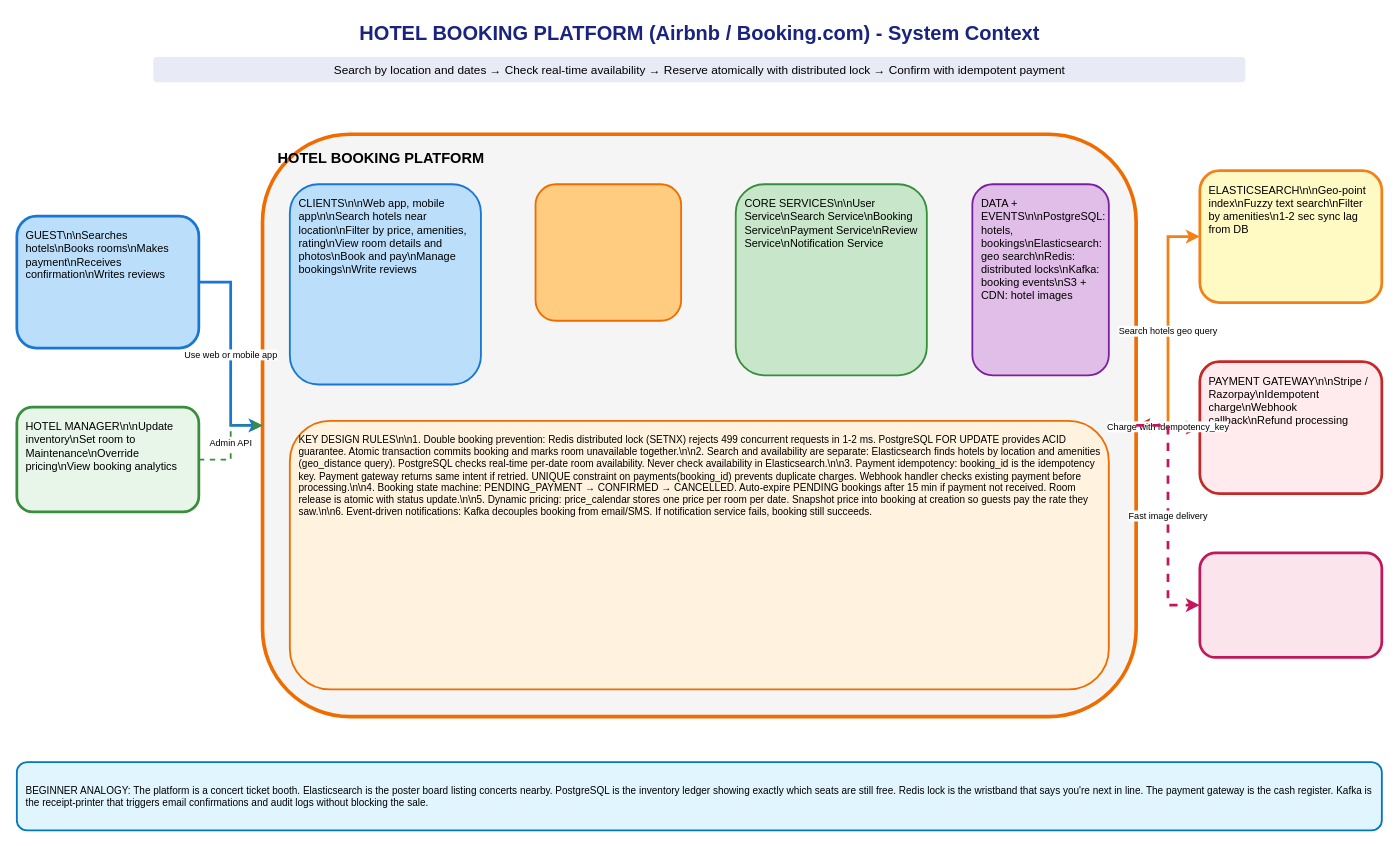
Image size: 1399x846. Some labels were removed from this diagram. Each missing label, with the box of its shape:
API GATEWAY\n\nAuthentication\nRate limiting\nRouting\nGeo-based routing: (534, 183, 682, 321)
CDN (CloudFront)\n\nHotel images\nRoom photos\n95% cache hit\n<50ms globally: (1198, 551, 1383, 658)
